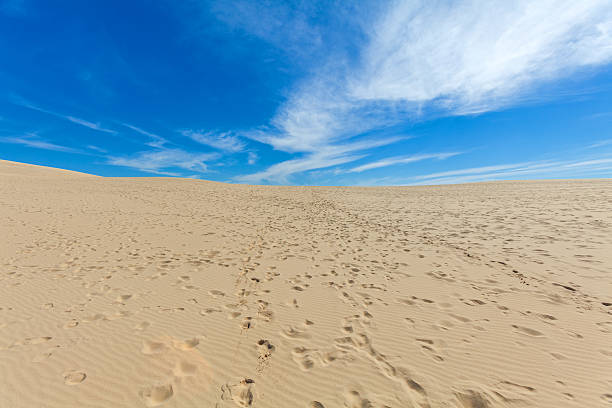human_footprint: (0, 198, 611, 407), (335, 315, 429, 406), (138, 335, 212, 405), (452, 380, 536, 407), (340, 386, 430, 407), (291, 346, 352, 370), (396, 367, 429, 407), (141, 335, 205, 354), (221, 378, 255, 407), (139, 383, 173, 406), (415, 338, 445, 361), (81, 310, 133, 323), (342, 310, 372, 332), (455, 389, 491, 407), (291, 346, 316, 370), (257, 339, 275, 372), (318, 348, 352, 365), (343, 390, 373, 407), (497, 380, 536, 393), (32, 345, 61, 362), (9, 336, 52, 347), (172, 336, 202, 349), (280, 326, 310, 339), (173, 360, 197, 376), (256, 299, 273, 321), (141, 340, 167, 354), (512, 325, 544, 336), (235, 281, 253, 300), (63, 370, 86, 384), (338, 290, 357, 306), (105, 310, 132, 320), (223, 300, 246, 310), (82, 313, 107, 322), (200, 307, 222, 316), (240, 316, 254, 330), (282, 298, 299, 308), (265, 270, 280, 281), (134, 321, 150, 331), (174, 275, 191, 284), (115, 294, 132, 303), (62, 319, 78, 328), (208, 289, 224, 298), (227, 311, 242, 320), (40, 302, 55, 310), (308, 400, 324, 407), (600, 393, 611, 403), (181, 284, 199, 289), (303, 319, 314, 327), (291, 285, 304, 291)
